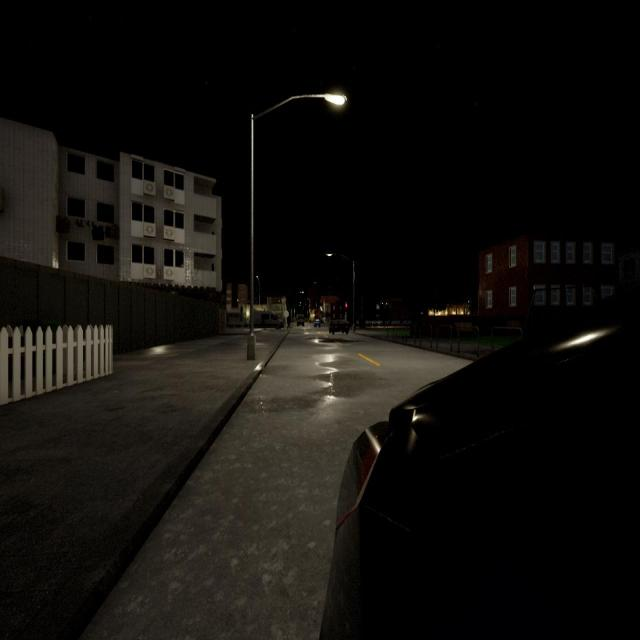Traffic_Signs: (283, 310, 289, 318)
Vehicle: (320, 286, 640, 638), (254, 310, 284, 330), (329, 319, 350, 335), (296, 314, 305, 326), (314, 319, 320, 328)
traffic_light: (345, 304, 347, 312)
